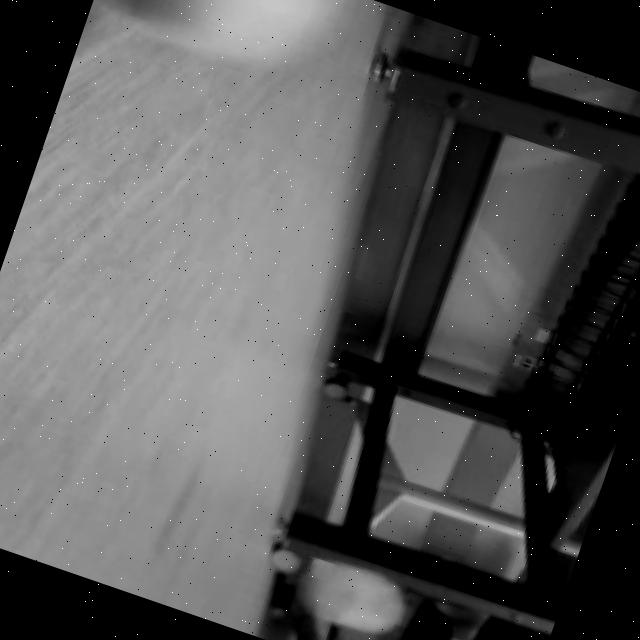ping-pong-ball: (84, 0, 344, 98), (289, 547, 421, 640)
